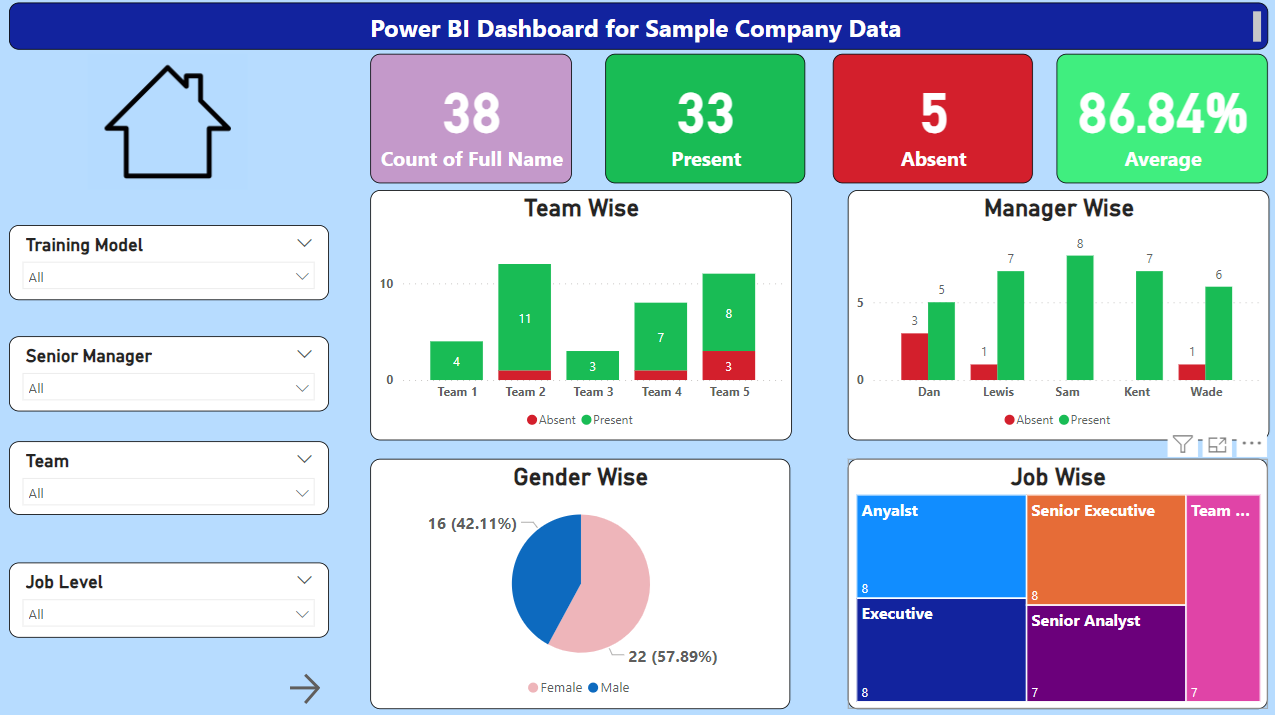

What the dashboard file says about the page in this screenshot:
{"tool":"powerbi","page":{"name":"Page 1","canvas":[1280,720],"ordinal":0},"visuals":[{"type":"card","fields":{"Values":["CountNonNull(Data.Full Name)"]},"box":[371.2,54.2,201.6,129.3],"z":0},{"type":"card","fields":{"Values":["CountNonNull(Data.Full Name)"]},"box":[606.1,54.2,200.2,129.3],"z":1000},{"type":"card","fields":{"Values":["CountNonNull(Data.Full Name)"]},"box":[834.1,54.2,200.2,129.3],"z":2000},{"type":"card","fields":{"Values":["Avg(Data.Attendance Status)"]},"box":[1057.9,54.2,211.3,129.3],"z":3000},{"type":"columnChart","title":"Team Wise","fields":{"Category":["Data.Team"],"Y":["CountNonNull(Data.Please enter your Employee ID:)"],"Series":["Data.Attendance"]},"box":[371.2,190.4,421.2,250.2],"z":4000},{"type":"clusteredColumnChart","title":"Manager Wise","fields":{"Category":["Data.Senior Manager"],"Y":["CountNonNull(Data.Please enter your Employee ID:)"],"Series":["Data.Attendance"]},"box":[849.4,190.4,421.2,250.2],"z":5000},{"type":"pieChart","title":"Gender Wise","fields":{"Category":["Data.Gender"],"Y":["CountNonNull(Data.Full Name)"]},"box":[371.2,458.7,419.8,250.2],"z":6000},{"type":"treemap","title":"Job Wise","fields":{"Group":["Data.Job Level"],"Values":["CountNonNull(Data.Full Name)"]},"box":[849.4,458.7,419.8,250.2],"z":7000},{"type":"slicer","fields":{"Values":["Data.Training Model"]},"box":[9.7,225.2,319.7,75.1],"z":8000},{"type":"slicer","fields":{"Values":["Data.Senior Manager"]},"box":[9.7,336.4,319.7,75.1],"z":9000},{"type":"slicer","fields":{"Values":["Data.Team"]},"box":[9.7,440.7,319.7,73.7],"z":10000},{"type":"slicer","fields":{"Values":["Data.Job Level"]},"box":[9.7,563,319.7,75.1],"z":11000},{"type":"image","box":[89,54.2,159.9,136.2],"z":12000},{"type":"actionButton","box":[285,668.6,44.5,40.3],"z":13000},{"type":"textbox","box":[9.7,2.8,1259.4,47.3],"z":14000}]}

Visuals, with their boxes in screenshot pixels (x1, y1, x2, y2), scaled from the page's 1280x720 canvas onto the 1275x715 screenshot:
card - CountNonNull(Data.Full Name): [x1=370, y1=54, x2=571, y2=182]
card - CountNonNull(Data.Full Name): [x1=604, y1=54, x2=803, y2=182]
card - CountNonNull(Data.Full Name): [x1=831, y1=54, x2=1030, y2=182]
card - Avg(Data.Attendance Status): [x1=1054, y1=54, x2=1264, y2=182]
"Team Wise" columnChart: [x1=370, y1=189, x2=789, y2=438]
"Manager Wise" clusteredColumnChart: [x1=846, y1=189, x2=1266, y2=438]
"Gender Wise" pieChart: [x1=370, y1=456, x2=788, y2=704]
"Job Wise" treemap: [x1=846, y1=456, x2=1264, y2=704]
slicer - Data.Training Model: [x1=10, y1=224, x2=328, y2=298]
slicer - Data.Senior Manager: [x1=10, y1=334, x2=328, y2=409]
slicer - Data.Team: [x1=10, y1=438, x2=328, y2=511]
slicer - Data.Job Level: [x1=10, y1=559, x2=328, y2=634]
image: [x1=89, y1=54, x2=248, y2=189]
actionButton: [x1=284, y1=664, x2=328, y2=704]
textbox: [x1=10, y1=3, x2=1264, y2=50]
